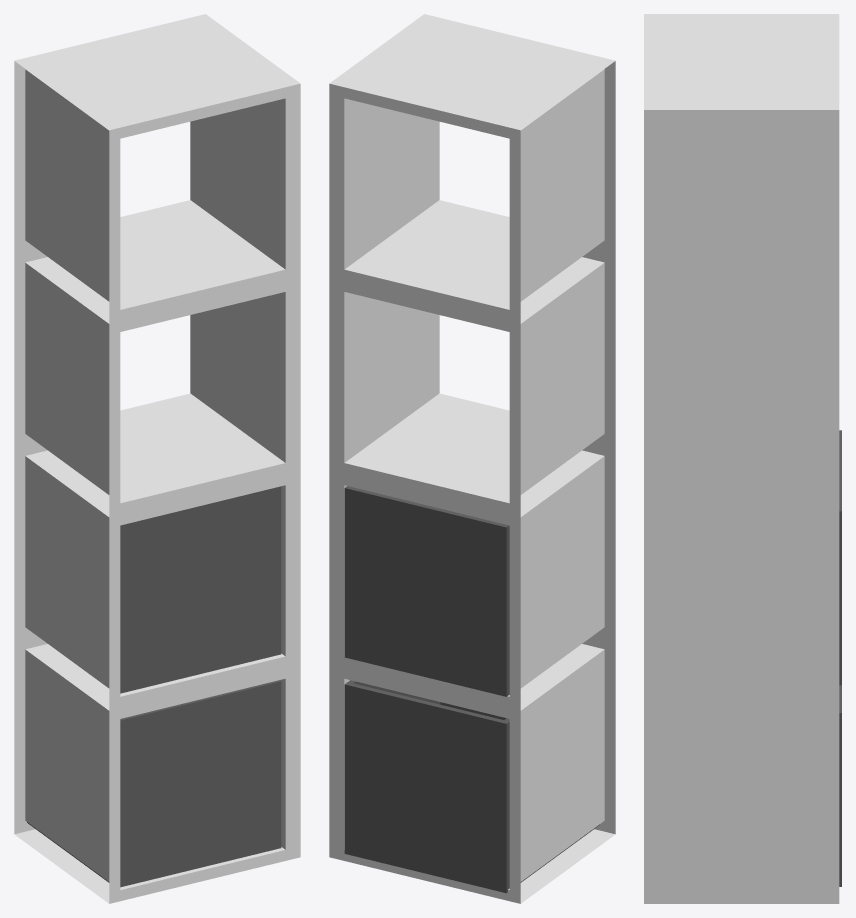
File: storagefurniture.gltf
3 renders of one model, left to right at view 1: azimuth 30°, elevation 25°; view 2: azimuth 150°, elevation 25°; view 3: azimuth 270°, elevation 25°, orthographic. The views are drawn at different scales.
Visible parts, largest first — view 1: Cube; view 2: Cube; view 3: Cube.
Part boxes in pixels (left/top/right/bottom): Cube: left=14, top=14, right=300, bottom=903; Cube: left=329, top=14, right=615, bottom=903; Cube: left=644, top=14, right=841, bottom=903.
Size of the model in its own units: 0.4648 by 1.79 by 0.4053.
1 material, 1 textured.
